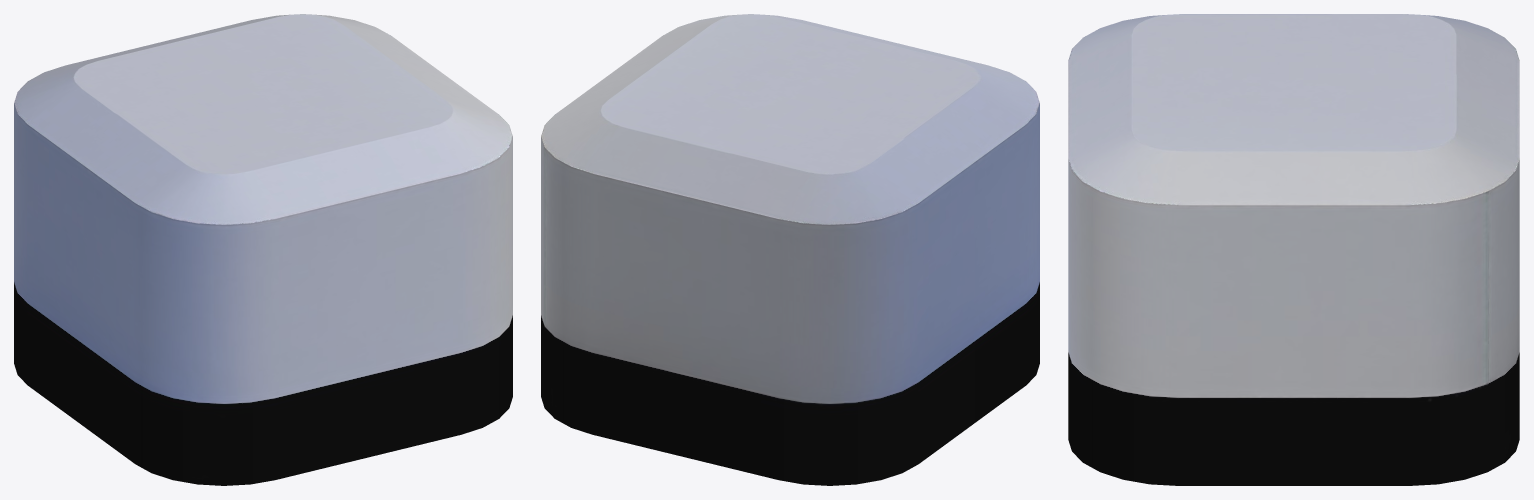
Rendered from Web_GK_Tombol_2.glb.
3 renders of one model, left to right at view 1: azimuth 30°, elevation 25°; view 2: azimuth 150°, elevation 25°; view 3: azimuth 270°, elevation 25°, orthographic. The views are drawn at different scales.
Parts seen in each view (by area): view 1: Cube.007; view 2: Cube.007; view 3: Cube.007.
Part boxes in pixels (x1=…): Cube.007: x1=14, y1=14, x2=512, y2=485; Cube.007: x1=541, y1=14, x2=1039, y2=485; Cube.007: x1=1068, y1=14, x2=1519, y2=485.
Bounding box in the file's own units: 0.1851 × 0.1393 × 0.1851.
Materials: 1 (1 with a texture image).
